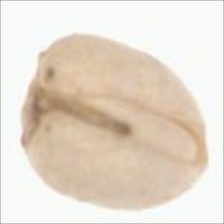L5: (55, 91, 200, 165), (20, 53, 54, 150), (199, 115, 212, 189)
L6: (18, 31, 212, 212)
